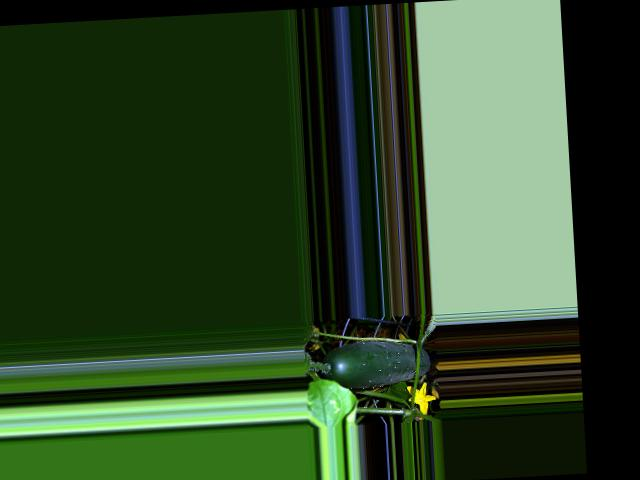cucumber: (319, 337, 430, 390)
